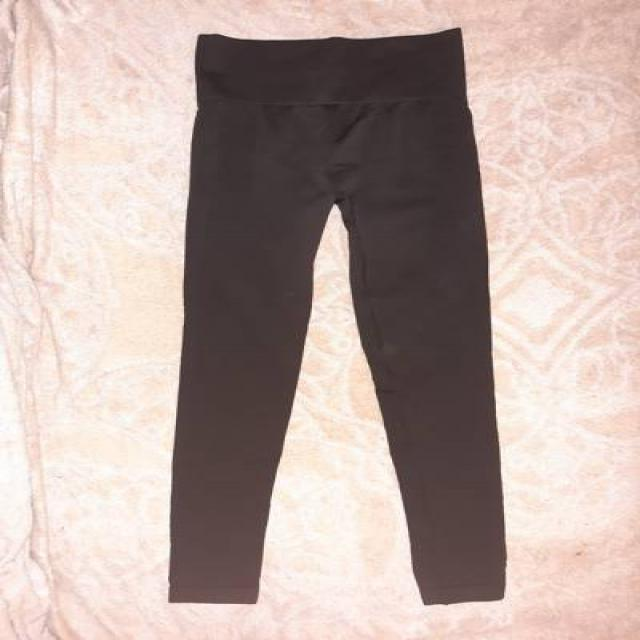Clothes -Biodegradable-: (173, 28, 507, 601)
